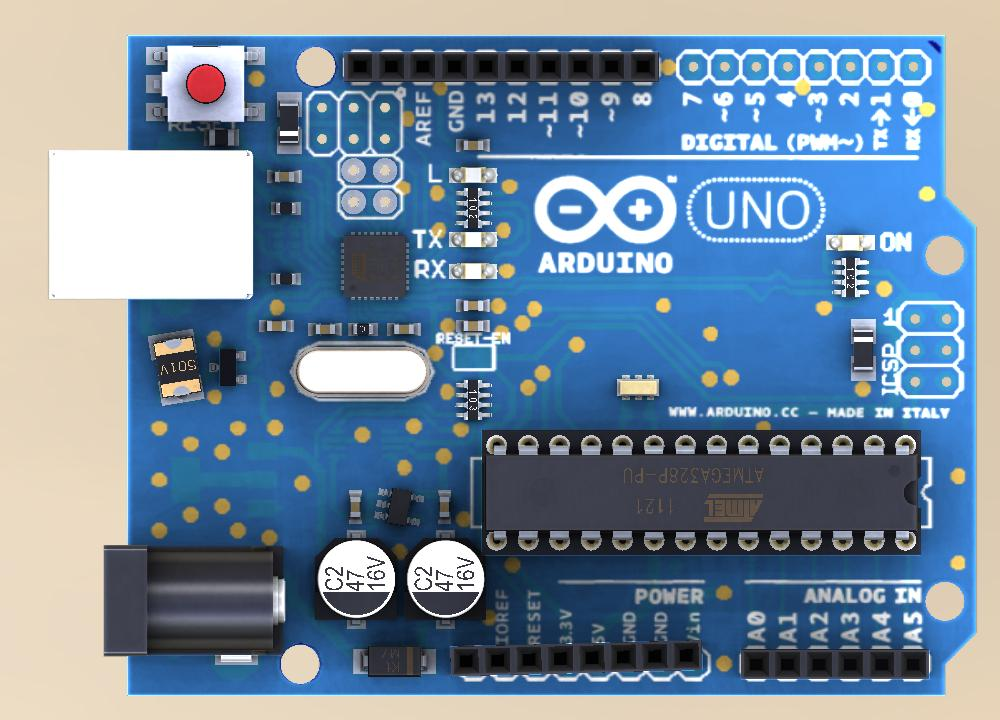16MHz Crystal: (614, 371, 661, 405)
47uF CAP: (403, 537, 488, 632), (312, 535, 396, 627)
ATMEL328P: (480, 427, 923, 557)
ATMega16u2: (341, 230, 411, 304)
CD1206: (274, 88, 305, 157), (850, 317, 879, 382)
Capa: (436, 488, 454, 527), (266, 167, 302, 185), (257, 317, 296, 333), (308, 320, 342, 338), (456, 136, 492, 153), (349, 487, 364, 527), (387, 321, 423, 337), (454, 318, 492, 333), (454, 299, 491, 314)
Crystal: (290, 340, 436, 405)
Fuse: (145, 330, 206, 407)
LED: (448, 258, 497, 280), (448, 229, 499, 249), (824, 234, 875, 251), (449, 167, 499, 184)
LMV358: (373, 484, 426, 530)
M7 diode: (353, 642, 441, 680)
Missing: (134, 414, 287, 543), (677, 49, 931, 88), (895, 302, 966, 401), (307, 90, 405, 156)
Ports: (345, 49, 661, 88), (453, 643, 712, 686), (738, 640, 936, 683)
Power: (101, 544, 285, 661)
Reset: (144, 42, 266, 129)
Resistor: (203, 127, 242, 148), (269, 199, 304, 217), (270, 269, 303, 287), (348, 321, 378, 338)
Resistor pack: (832, 257, 872, 302), (455, 186, 494, 230), (456, 378, 494, 422)
SSOT3: (208, 349, 252, 390)
USB: (49, 150, 255, 300)
